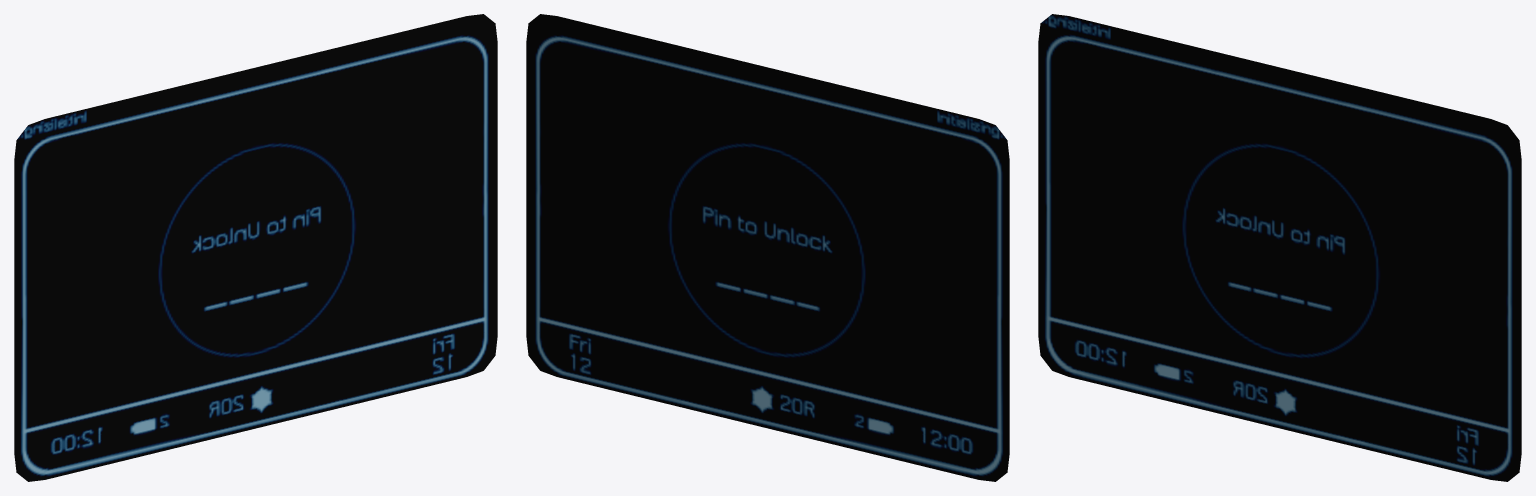
The model's file is BarBaseScreen.fbx.
The picture shows the model from 3 angles, left to right: view 1: azimuth 30°, elevation 25°; view 2: azimuth 150°, elevation 25°; view 3: azimuth 330°, elevation 25°; orthographic projection.
Visible parts, largest first — view 1: BarBaseScreen; view 2: BarBaseScreen; view 3: BarBaseScreen.
Part boxes in pixels (x1,y1,x2,y2): BarBaseScreen: [14, 14, 497, 481]; BarBaseScreen: [526, 14, 1009, 481]; BarBaseScreen: [1038, 14, 1521, 481].
Size of the model in its own units: 31.38 by 22.41 by 6.1e-05.
